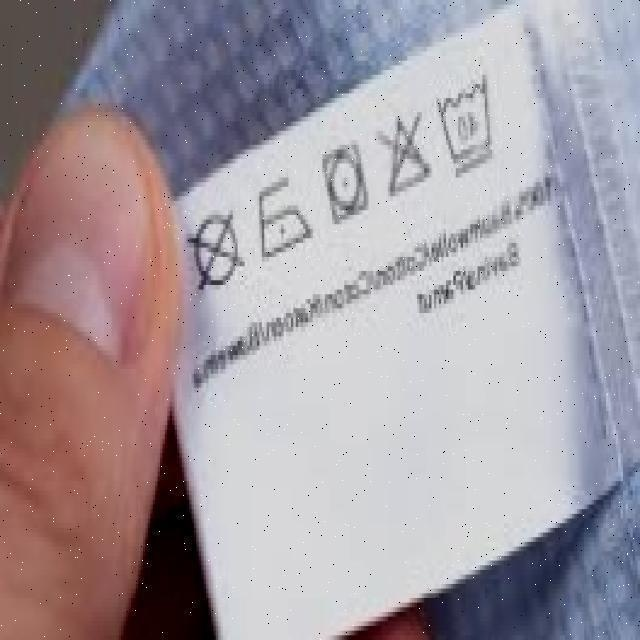40C: (434, 77, 506, 172)
DN_bleach: (375, 113, 436, 198)
DN_dry_clean: (184, 208, 248, 294)
iron_low: (252, 176, 314, 259)
tumble_dry_low: (319, 144, 373, 223)
